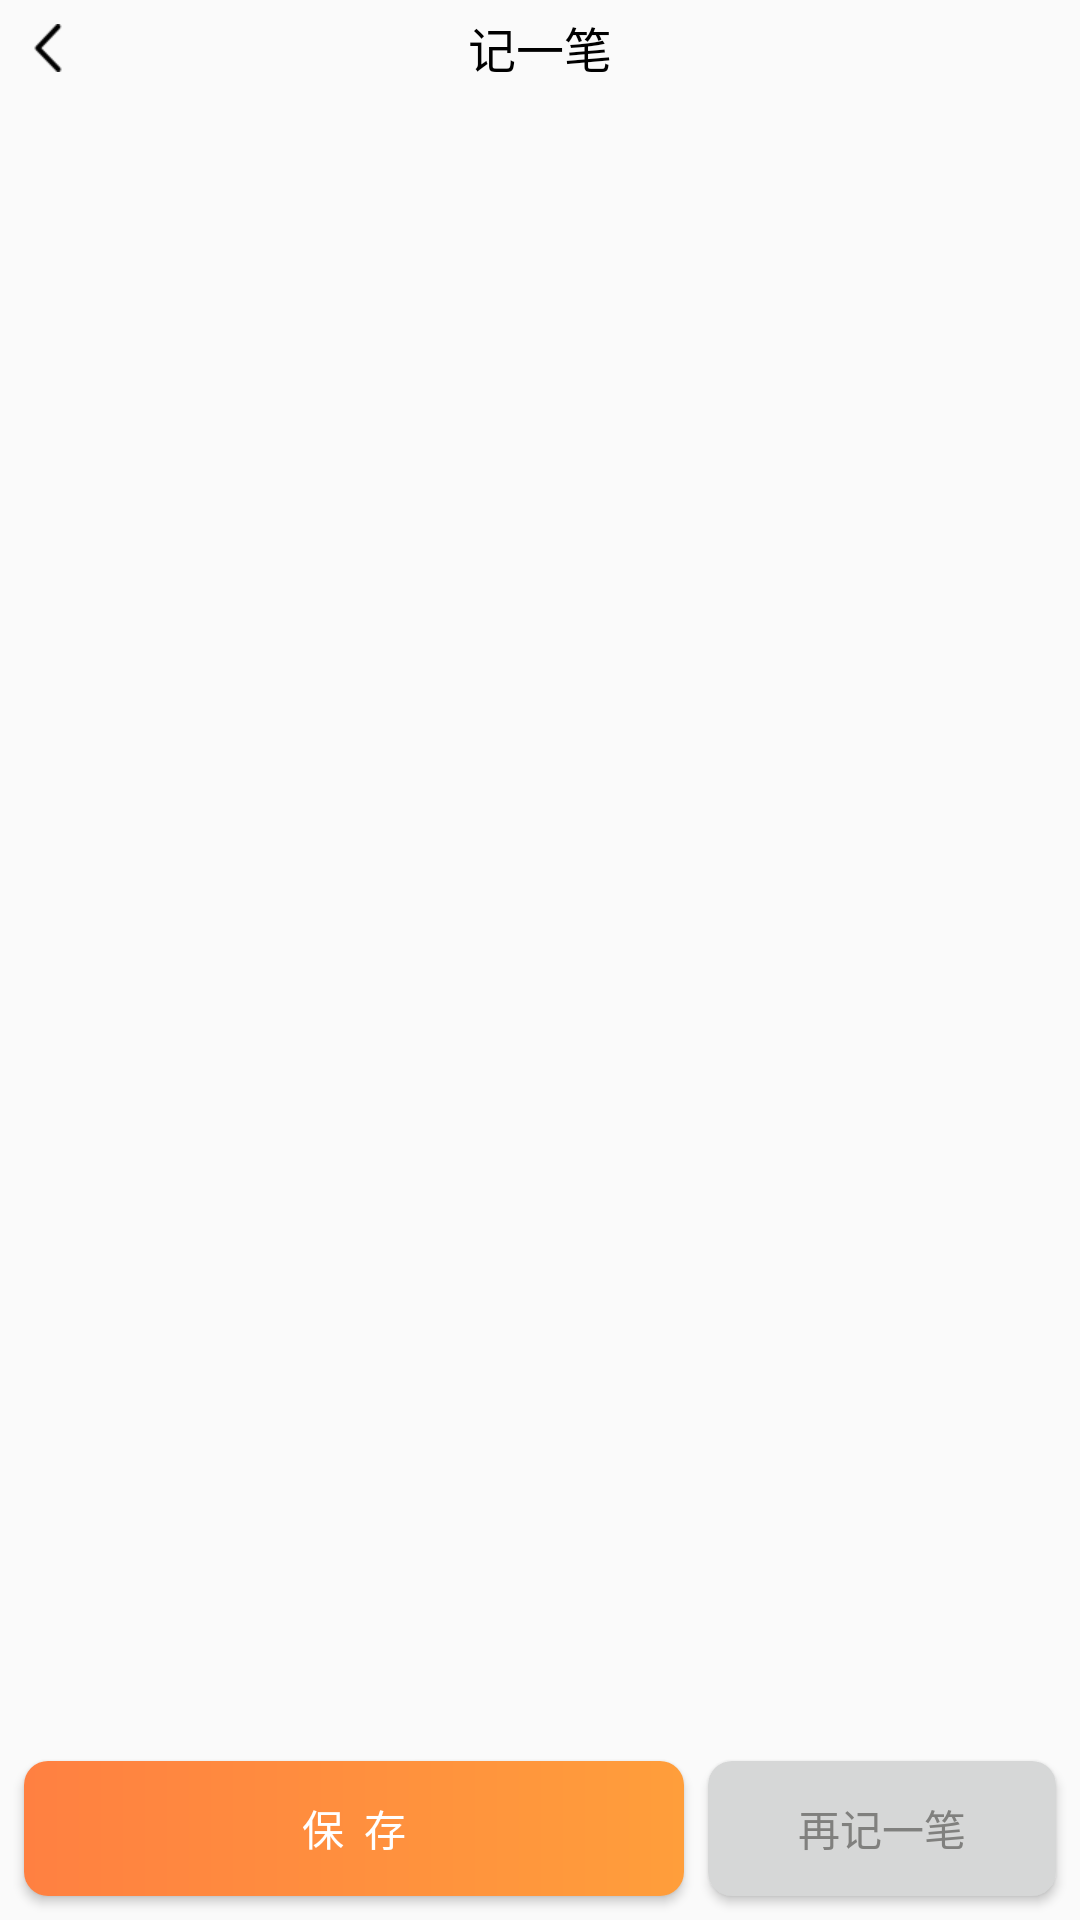

Where to tap for icons on this 1080px x 1920px app screen, as point (x, y):
return: point (48, 48)
